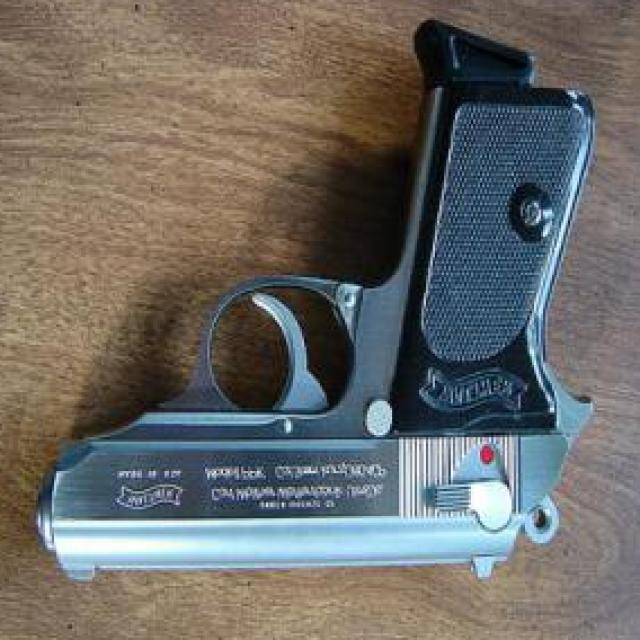pistol: (36, 17, 598, 584)
